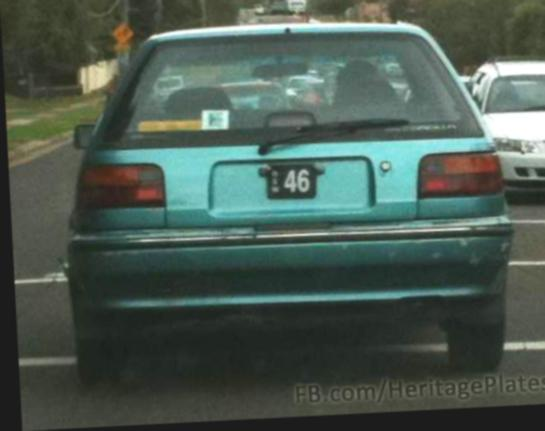License_Plate: (249, 151, 334, 207)
